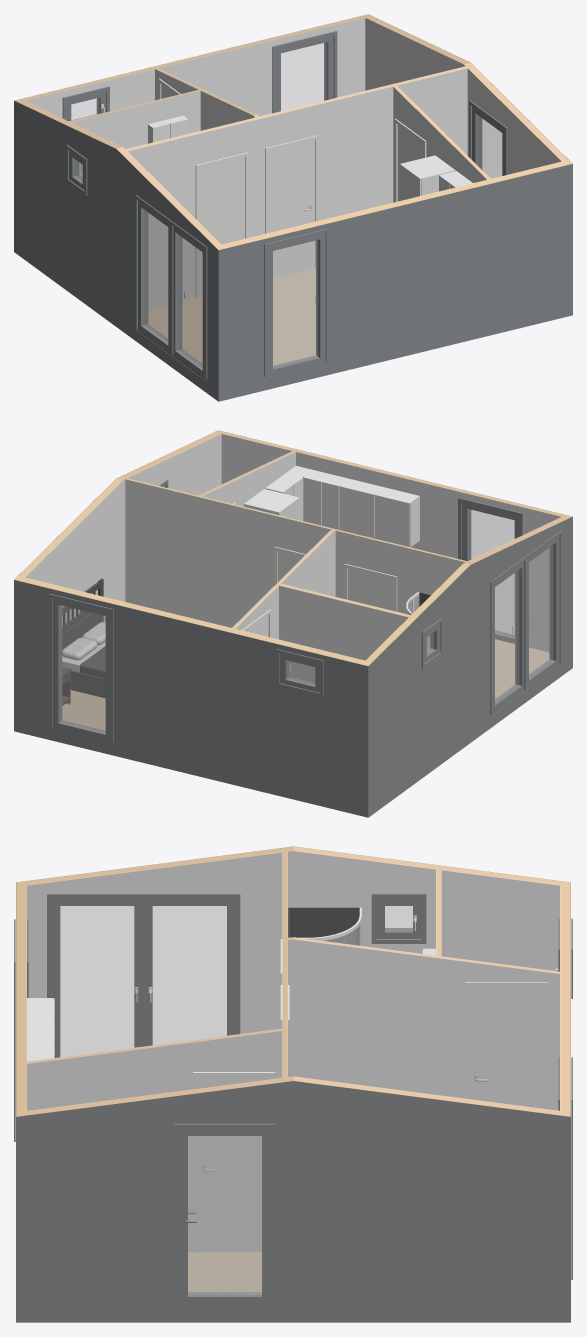
The model's file is Airija_Janelle_(6,0x6,0m)_R01.fbx.
3 renders of one model, top to bottom at view 1: azimuth 30°, elevation 25°; view 2: azimuth 150°, elevation 25°; view 3: azimuth 270°, elevation 25°, orthographic. The views are drawn at different scales.
Parts seen in each view (by area): view 1: IfcWall/Part:2319977, IfcWall/Part:2583002, IfcWall/Part:2599078, IfcWall/Part:2397154, IfcWindow/Windows (Akrusta):1000x2100x120 (dešininis):258364, IfcWall/Part:2397151, IfcDoor/Interior Door:800x2100 x 120 (dešininės):2598756, IfcSlab/Part:2319985, IfcWindow/Windows (Akrusta):1000x2100x120 (dešininis):260117, IfcWindow/Windows (Akrusta):1000x2100x120 (kairinis):2583512, IfcDoor/Interior Door:800x2100 x 120 (kairinės):2597636, IfcWindow/Windows (Akrusta):1000x2100x120 (dešininis):260122 (+16 smaller); view 2: IfcWall/Part:2397155, IfcWall/Part:2583002, IfcWall/Part:2566165, IfcWall/Part:2397151, IfcWall/Part:2319976, IfcWindow/Windows (Akrusta):1000x2100x120 (dešininis):260122, IfcWall/Part:2596631, IfcWindow/Windows (Akrusta):1000x2100x120 (kairinis):2583512, IfcWindow/Windows (Akrusta):1000x2100x120 (dešininis):260117, IfcWall/Part:2584739, IfcWindow/Windows (Akrusta):1000x2100x120 (dešininis):258364, IfcFurnishingElement/Lova (BED) IKEA:Full Size - Black/Brown (+20 smaller); view 3: IfcWall/Part:2397152, IfcWall/Part:2583001, IfcWall/Part:2578712, IfcDoor/Exterior Door:1000x2100x120 (dešininės):2599170, IfcWindow/Windows (Akrusta):1000x2100x120 (kairinis):2583512, IfcWindow/Windows (Akrusta):1000x2100x120 (dešininis):260117, IfcWall/Part:2599021, IfcDoor/Interior Door:800x2100 x 120 (kairinės):2597463, IfcDoor/Interior Door:800x2100 x 120 (kairinės):2600210, IfcSlab/Part:2319985, IfcWindow/Windows (Akrusta):500 x 500 x 120:2601977, IfcWall/Part:2397153 (+10 smaller).
Boxes of the visible parts, x1=… form: IfcWall/Part:2319977: x1=218, y1=164, x2=572, y2=401; IfcWall/Part:2583002: x1=14, y1=100, x2=218, y2=401; IfcWall/Part:2599078: x1=127, y1=86, x2=393, y2=308; IfcWall/Part:2397154: x1=25, y1=18, x2=365, y2=118; IfcWindow/Windows (Akrusta):1000x2100x120 (dešininis):258364: x1=264, y1=228, x2=329, y2=376; IfcWall/Part:2397151: x1=365, y1=18, x2=561, y2=174; IfcDoor/Interior Door:800x2100 x 120 (dešininės):2598756: x1=265, y1=135, x2=318, y2=278; IfcSlab/Part:2319985: x1=148, y1=268, x2=315, y2=365; IfcWindow/Windows (Akrusta):1000x2100x120 (dešininis):260117: x1=135, y1=195, x2=173, y2=354; IfcWindow/Windows (Akrusta):1000x2100x120 (kairinis):2583512: x1=169, y1=220, x2=207, y2=379; IfcDoor/Interior Door:800x2100 x 120 (kairinės):2597636: x1=195, y1=152, x2=248, y2=297; IfcWindow/Windows (Akrusta):1000x2100x120 (dešininis):260122: x1=272, y1=31, x2=337, y2=113; IfcWall/Part:2397155: x1=14, y1=580, x2=368, y2=817; IfcWall/Part:2583002: x1=368, y1=516, x2=572, y2=817; IfcWall/Part:2566165: x1=125, y1=479, x2=331, y2=627; IfcWall/Part:2397151: x1=25, y1=434, x2=221, y2=625; IfcWall/Part:2319976: x1=221, y1=434, x2=561, y2=651; IfcWindow/Windows (Akrusta):1000x2100x120 (dešininis):260122: x1=49, y1=593, x2=113, y2=742; IfcWall/Part:2596631: x1=279, y1=585, x2=408, y2=682; IfcWindow/Windows (Akrusta):1000x2100x120 (kairinis):2583512: x1=524, y1=530, x2=562, y2=689; IfcWindow/Windows (Akrusta):1000x2100x120 (dešininis):260117: x1=490, y1=555, x2=528, y2=714; IfcWall/Part:2584739: x1=335, y1=530, x2=465, y2=614; IfcWindow/Windows (Akrusta):1000x2100x120 (dešininis):258364: x1=458, y1=498, x2=522, y2=643; IfcFurnishingElement/Lova (BED) IKEA:Full Size - Black/Brown: x1=62, y1=578, x2=105, y2=697; IfcWall/Part:2397152: x1=16, y1=1081, x2=570, y2=1322; IfcWall/Part:2583001: x1=27, y1=851, x2=559, y2=1033; IfcWall/Part:2578712: x1=288, y1=939, x2=559, y2=1110; IfcDoor/Exterior Door:1000x2100x120 (dešininės):2599170: x1=174, y1=1123, x2=275, y2=1304; IfcWindow/Windows (Akrusta):1000x2100x120 (kairinis):2583512: x1=47, y1=894, x2=147, y2=1057; IfcWindow/Windows (Akrusta):1000x2100x120 (dešininis):260117: x1=139, y1=894, x2=240, y2=1046; IfcWall/Part:2599021: x1=27, y1=1031, x2=282, y2=1251; IfcDoor/Interior Door:800x2100 x 120 (kairinės):2597463: x1=465, y1=982, x2=547, y2=1109; IfcDoor/Interior Door:800x2100 x 120 (kairinės):2600210: x1=193, y1=1072, x2=275, y2=1252; IfcSlab/Part:2319985: x1=188, y1=1252, x2=261, y2=1292; IfcWindow/Windows (Akrusta):500 x 500 x 120:2601977: x1=371, y1=893, x2=426, y2=943; IfcWall/Part:2397153: x1=16, y1=1076, x2=560, y2=1116.
Size of the model in its own units: 608 by 288 by 604.
